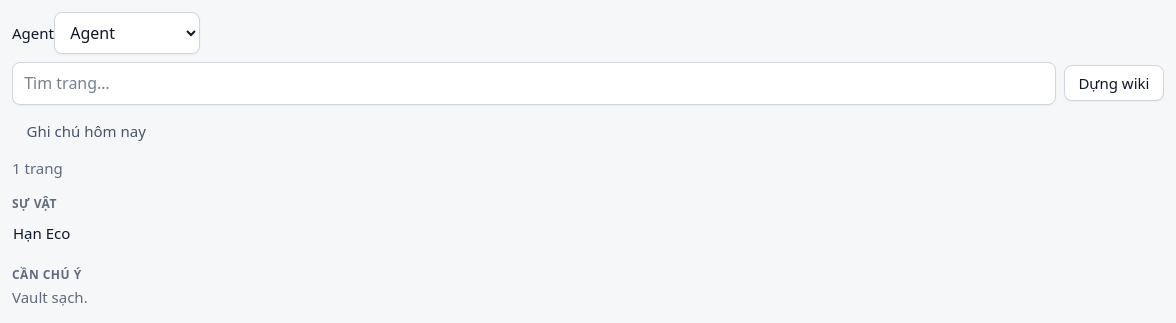
Test: WikiSection › opens a page with its body, which the list never carried
Click the button "Hạn Eco".
click(42, 233)  # box [12,215,71,251]
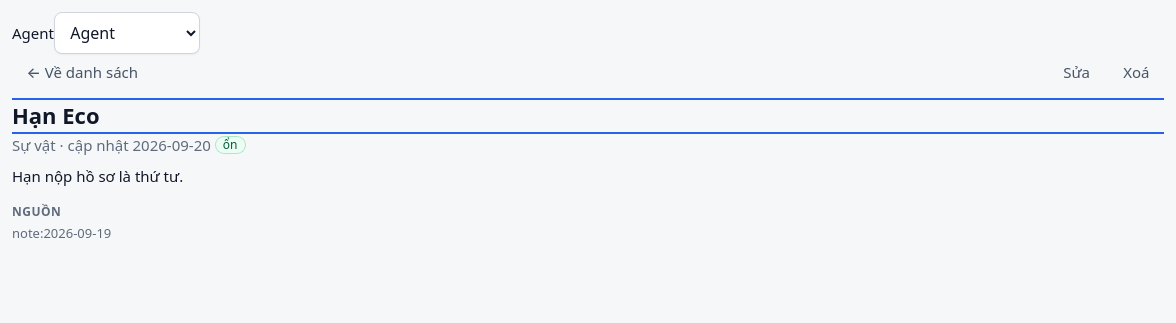
Expected: the element with test id "wiki-page" shows "Hạn nộp hồ sơ là thứ tư.", [12,166,183,186]
Expected: the element with test id "wiki-page" shows "note:2026-09-19", [12,224,111,242]
